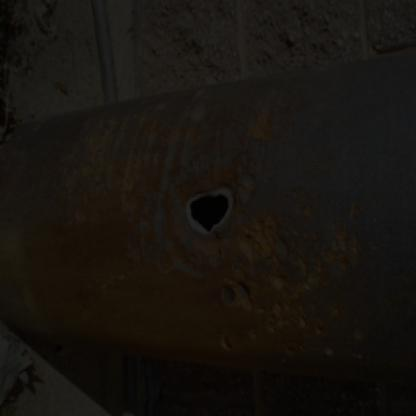burst: (181, 177, 252, 244)
